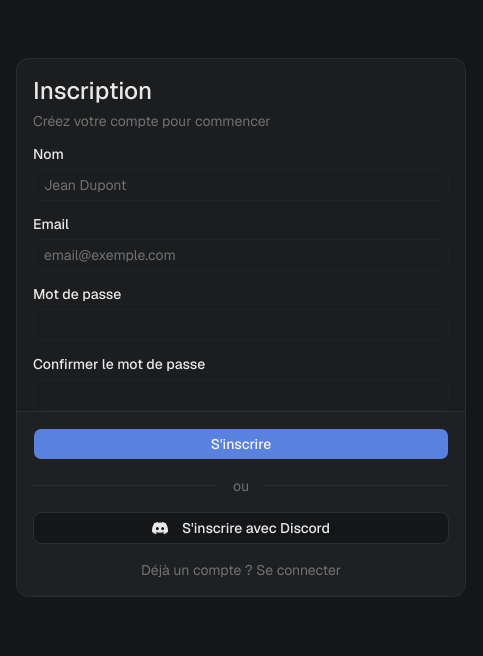
Test: RegisterPage › should show validation errors on empty submit
Click the button "S'inscrire": (241, 444) left=33, top=428, right=449, bottom=460
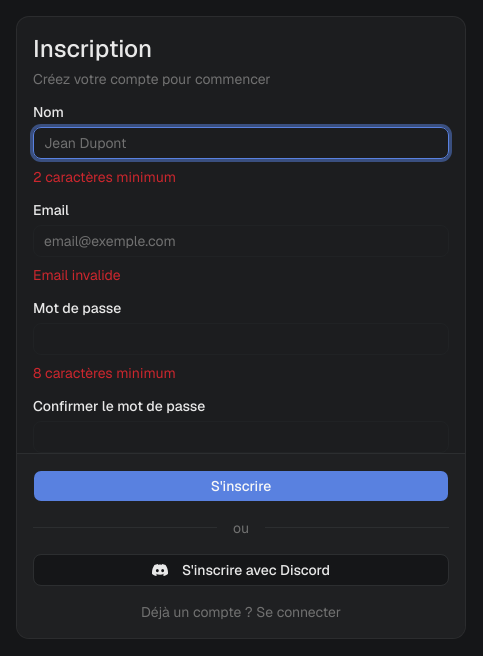
Expected: the text "Email invalide" is shown, left=33, top=266, right=121, bottom=284
